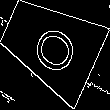O_NW: (22, 14, 79, 76)
